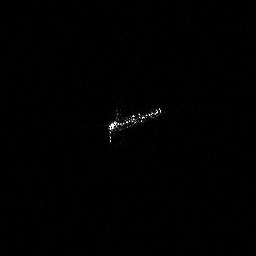ship: (105, 104, 167, 146)
